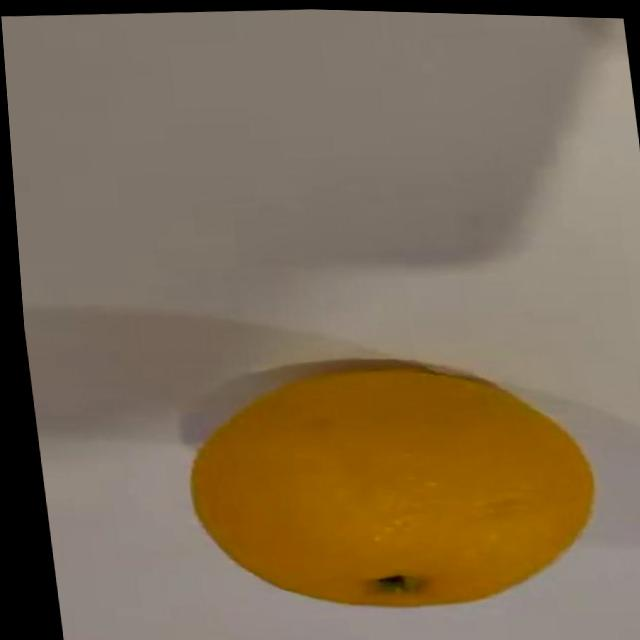Orange: (169, 348, 603, 623)
